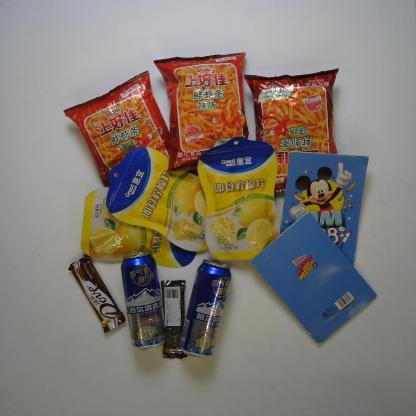Alcohol: (179, 259, 231, 358), (120, 251, 166, 350)
Chocolate: (68, 254, 126, 334), (159, 280, 189, 359)
Dried Fruit: (106, 146, 224, 252), (197, 136, 280, 262), (81, 184, 203, 268)
Puffed Food: (63, 71, 192, 216), (244, 68, 350, 196), (154, 53, 258, 171)
Stationery: (249, 211, 377, 346), (274, 150, 368, 270)
